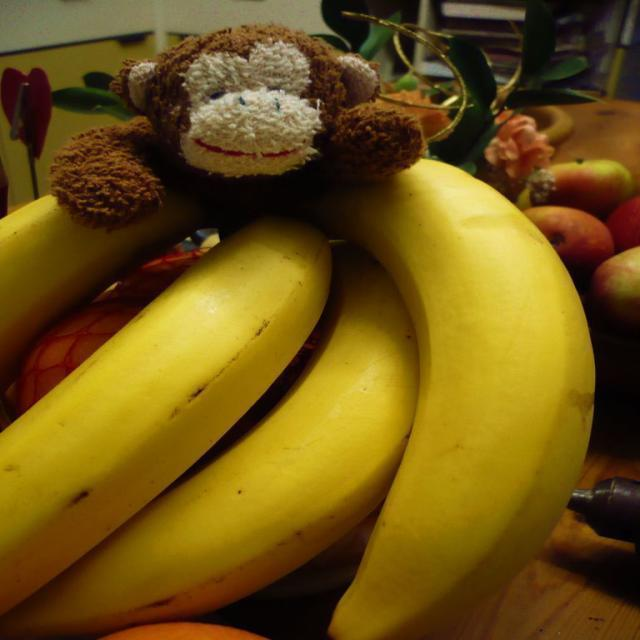Banana: (0, 158, 594, 640)
